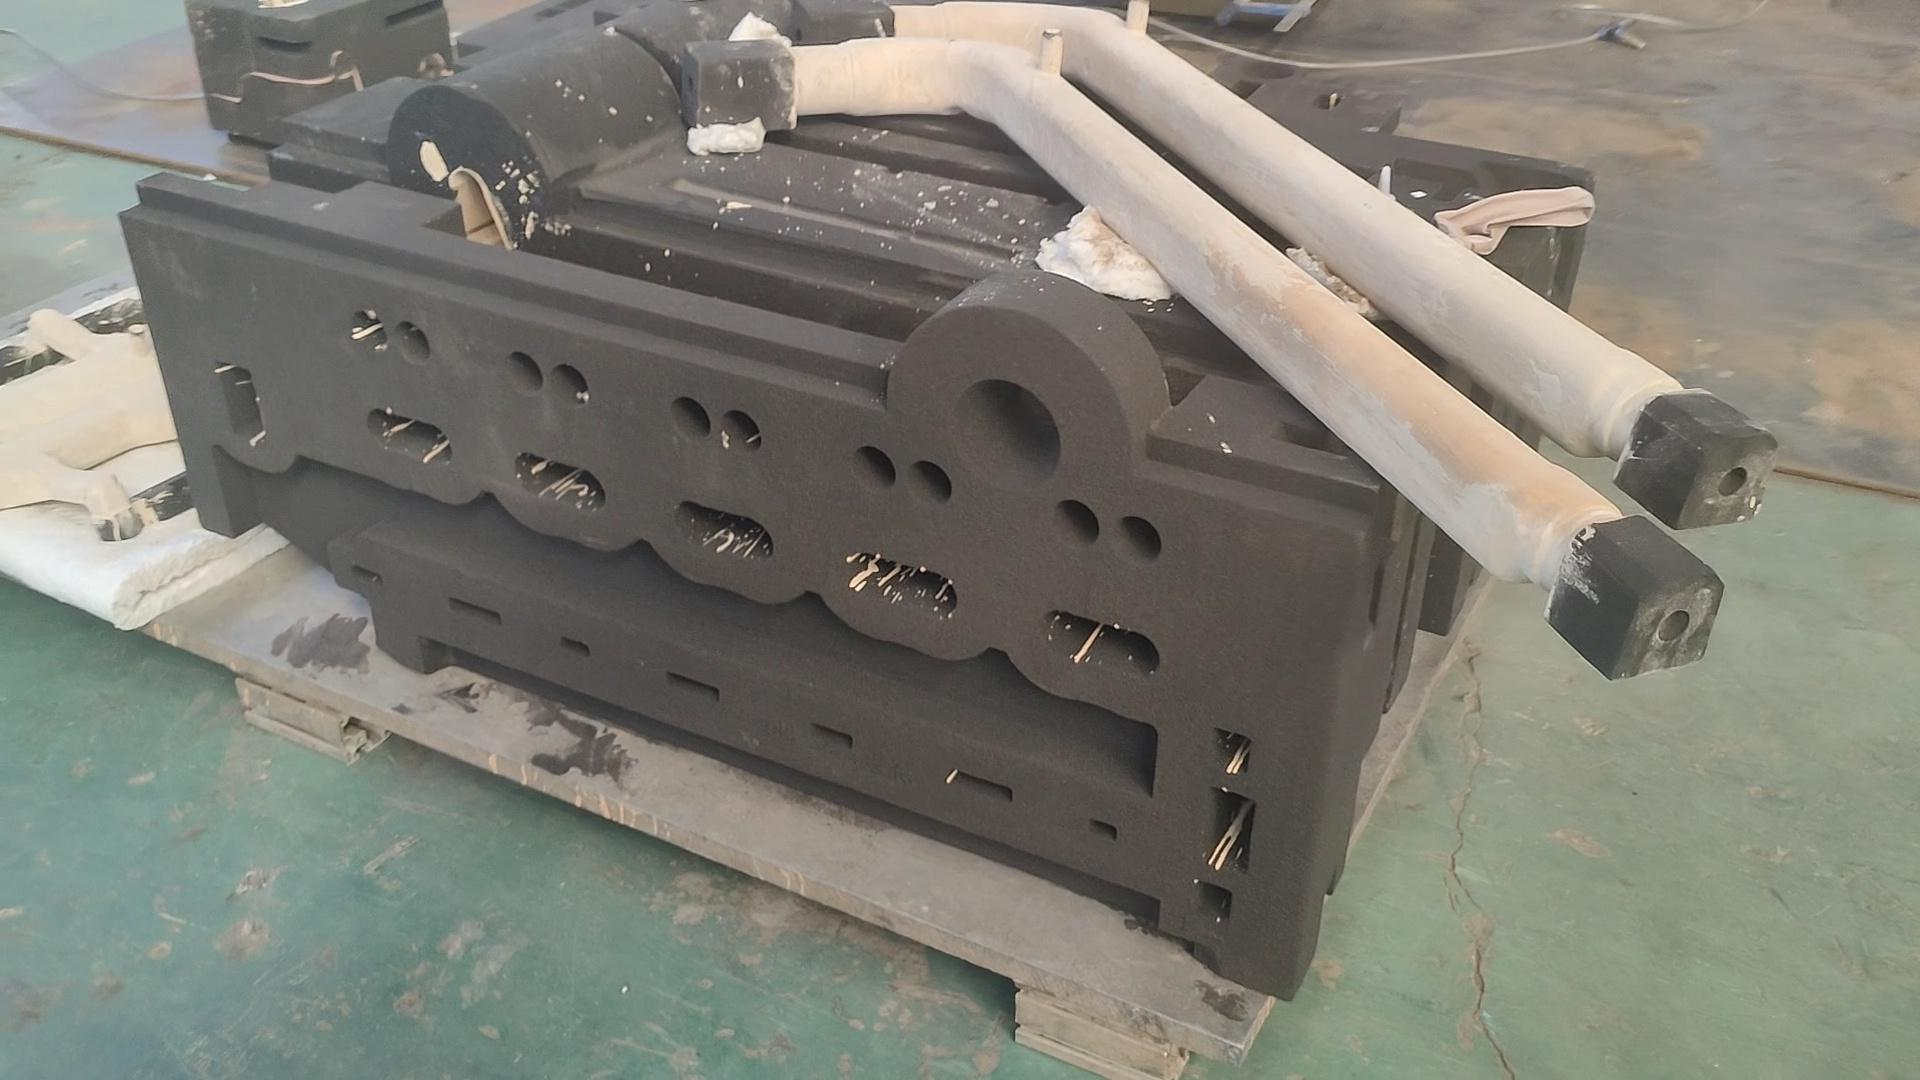pouring hole: (947, 378, 1062, 492), (1238, 53, 1303, 82)
